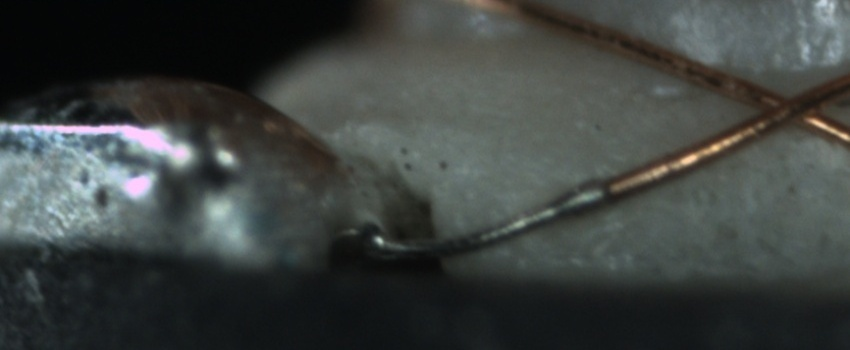CL: (720, 71, 846, 138)
TS: (359, 183, 610, 258)
TTCW: (368, 159, 668, 258)
